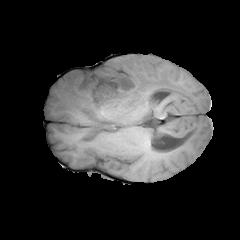glioma: (53, 58, 191, 127)
